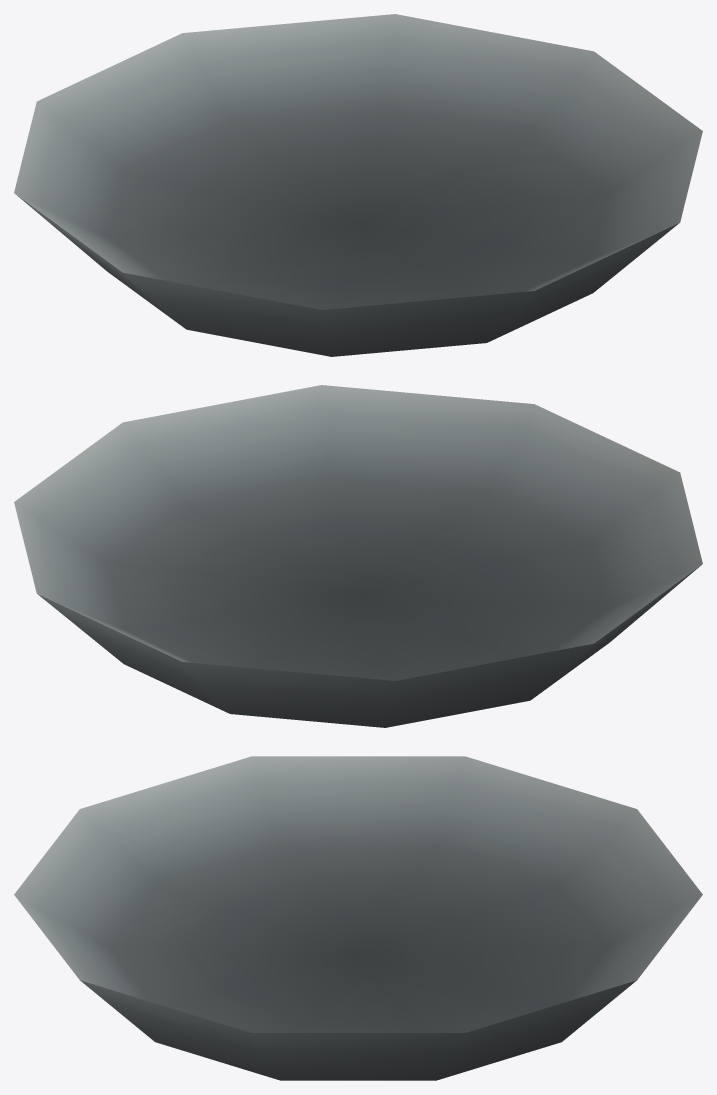
File: Plate_1A.fbx
3 renders of one model, top to bottom at view 1: azimuth 30°, elevation 25°; view 2: azimuth 150°, elevation 25°; view 3: azimuth 270°, elevation 25°, orthographic. The views are drawn at different scales.
Visible parts, largest first — view 1: Plate_1A; view 2: Plate_1A; view 3: Plate_1A.
Part boxes in pixels (x1=…): Plate_1A: x1=14, y1=14, x2=702, y2=356; Plate_1A: x1=14, y1=385, x2=702, y2=727; Plate_1A: x1=14, y1=756, x2=702, y2=1080.
Bounding box in the file's own units: 28.18 × 4.04 × 29.63.
